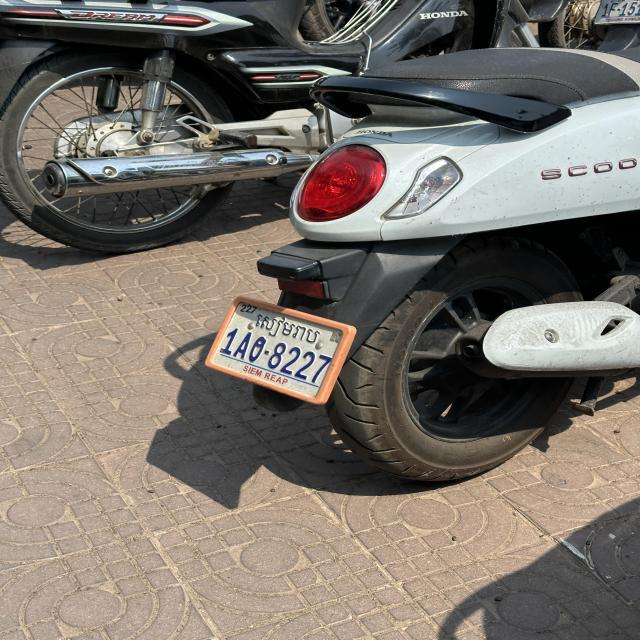Siem_Reap: (254, 313, 323, 345)
